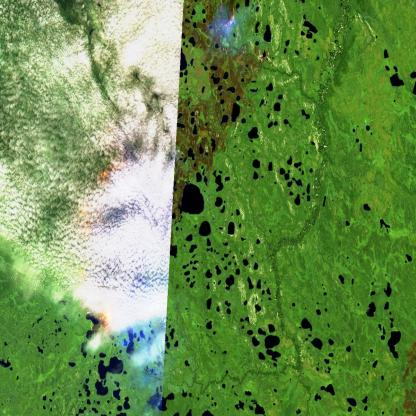fire: (63, 0, 236, 356)
